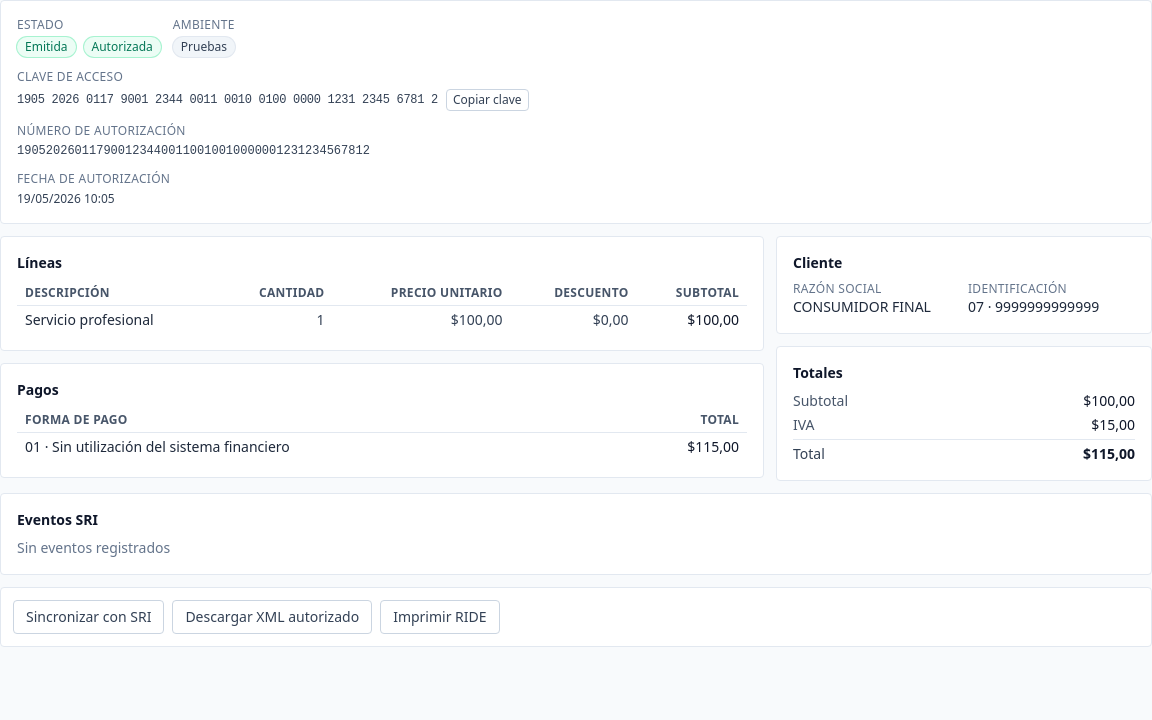
Scenario: /invoices/:id — AUTORIZADO placeholders › Descargar XML and Imprimir RIDE show a 'Próximamente' toast
Click the button with test id "action-download-xml".
click(272, 617)  # box [172,600,372,634]
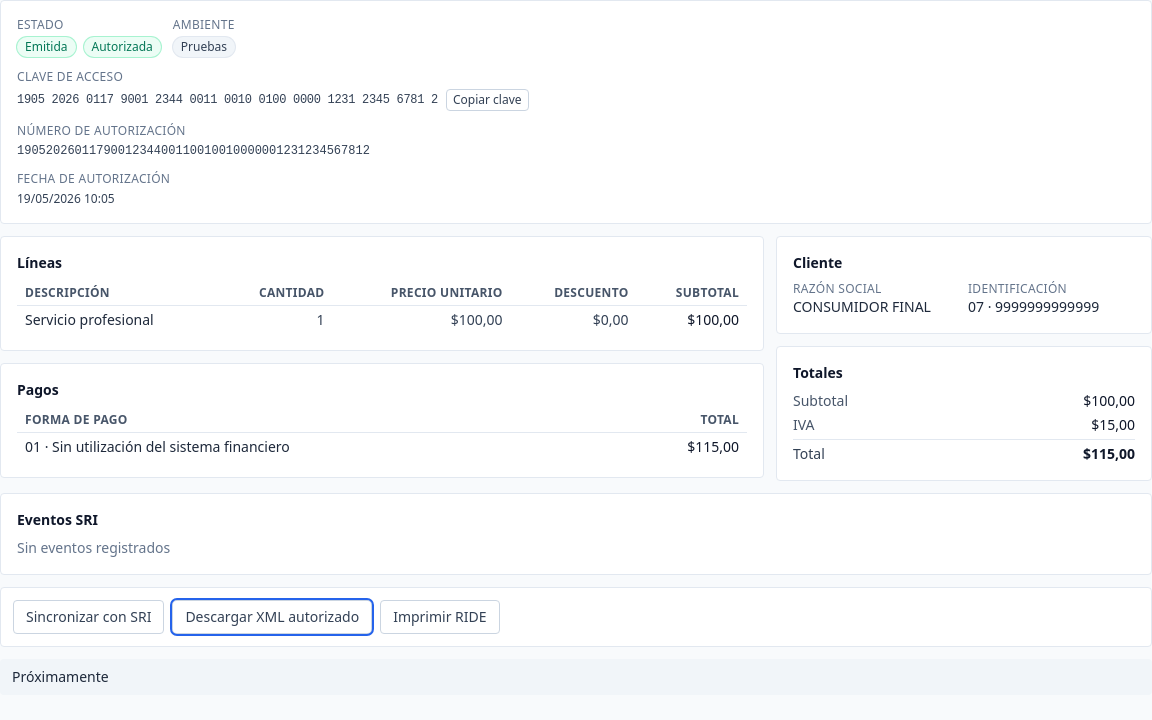
Result: the message with test id "detail-toast-info" reads "Próximamente" at [12,667,109,686]
